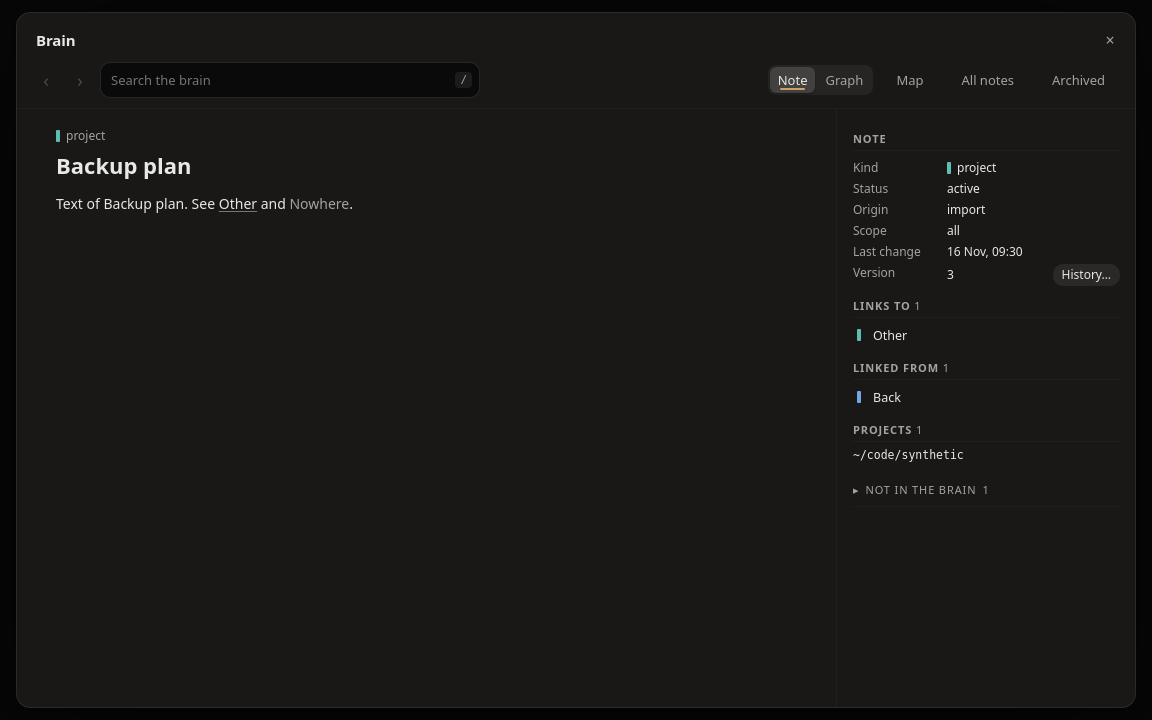
Brain page after the post-delivery review (2026-11-20) › a link in History opens its note and closes History
Press h in the element with class "b-box"
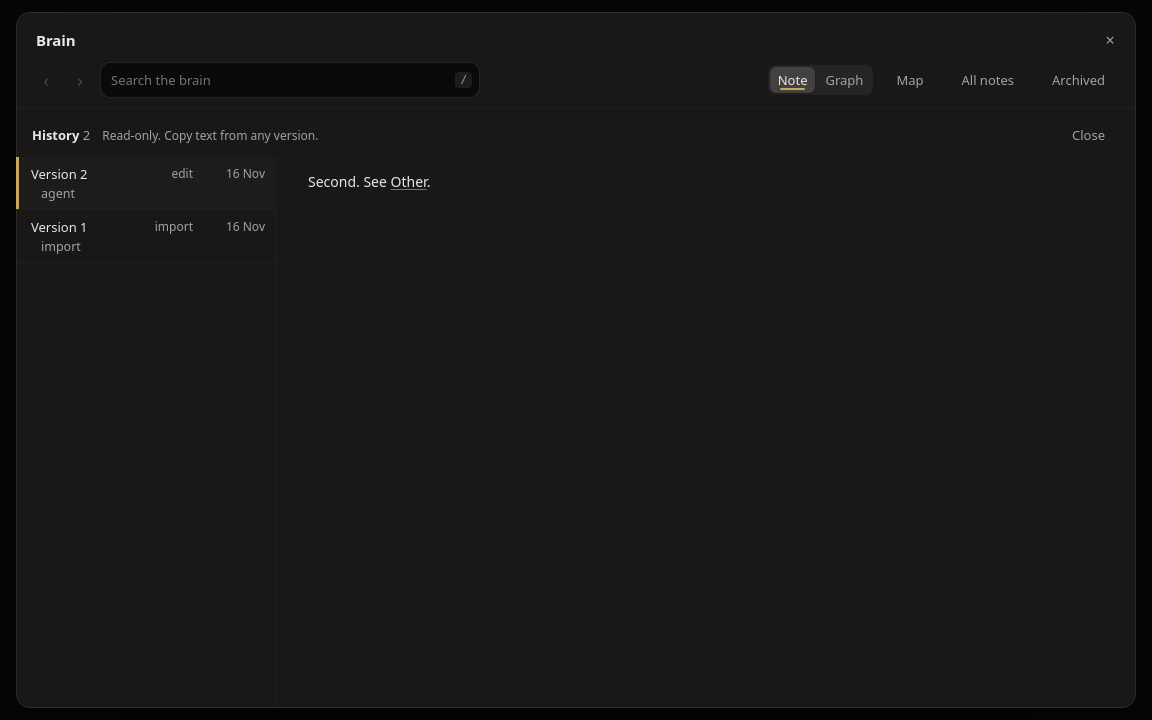
Click the link "Other" at (409, 182), box [390,172,427,191]
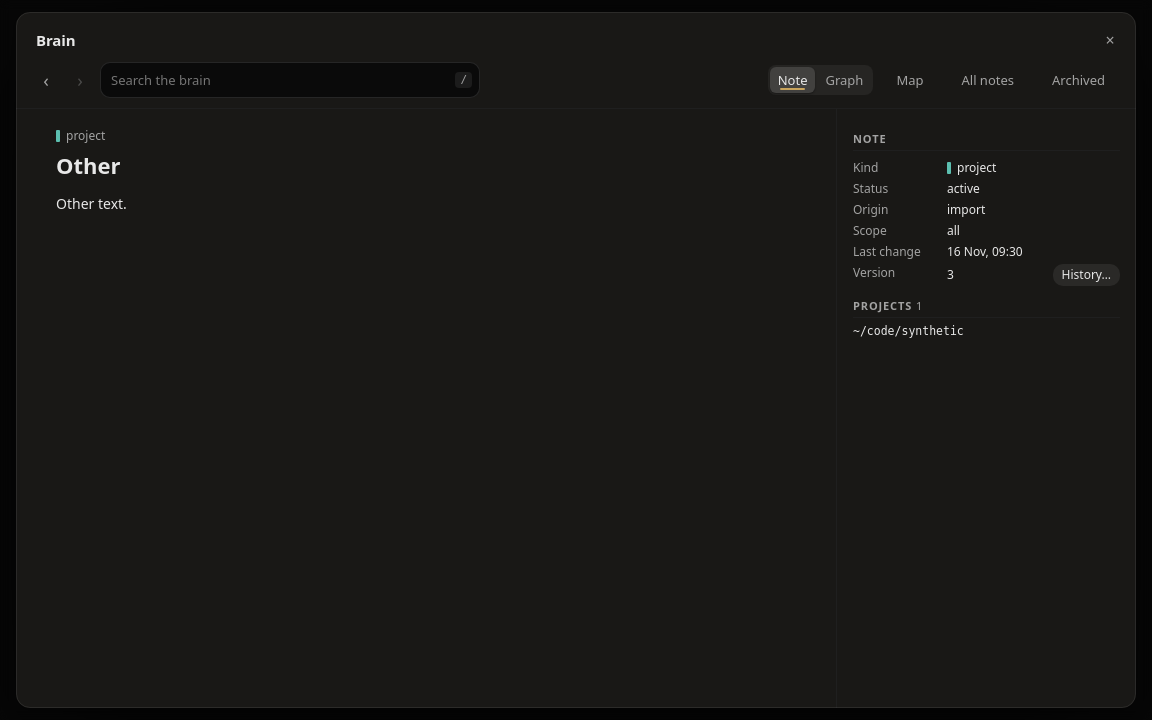
Now the element with class "b-history" is gone
Now the heading with class "b-title" reads "Other", box [56,150,120,180]
